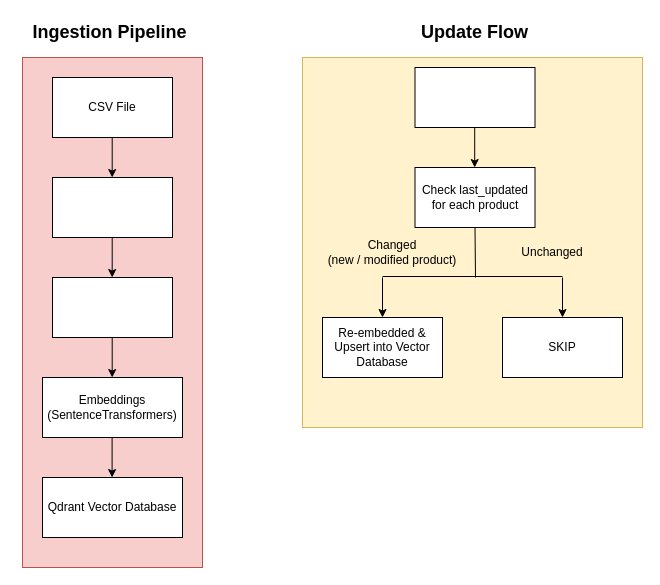
This 660x585 diagram has some shape labels left out. Each missing label, with the centre of its shape:
"Chunking (Text splitter)" belongs at (112,307).
"Data Preprocessing with Pandas" belongs at (112,207).
"New CSV (Monthly)" belongs at (474,97).
